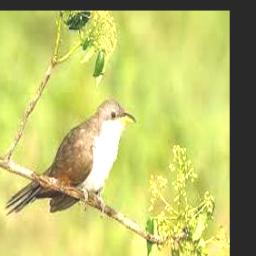Cuckoo: (5, 98, 136, 213)
